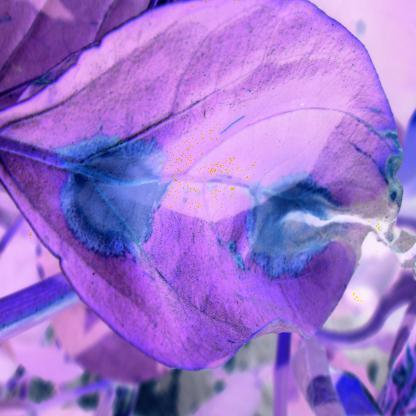Bell_pepper leaf: (15, 20, 408, 375)
